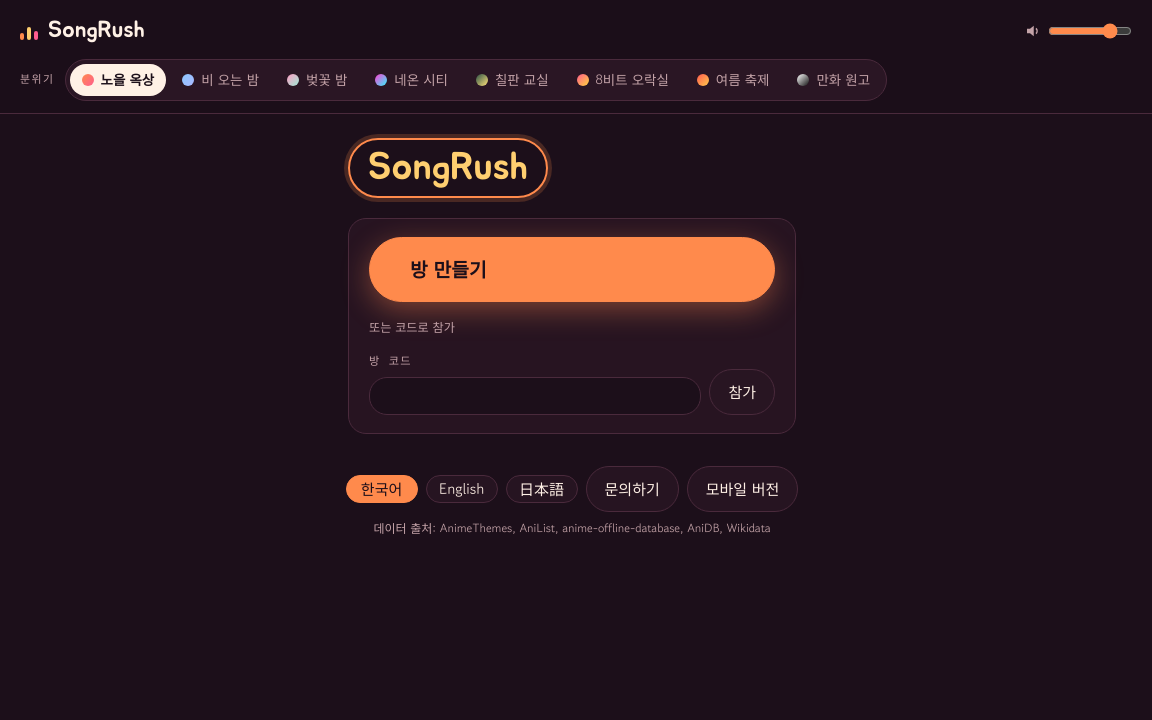
Test: the create dialog › Escape closes the dialog, sends nothing and gives focus back to 방 만들기
This screenshot has width=1152, height=720.
Click the button "방 만들기" at (448, 269), box [369, 237, 775, 302]
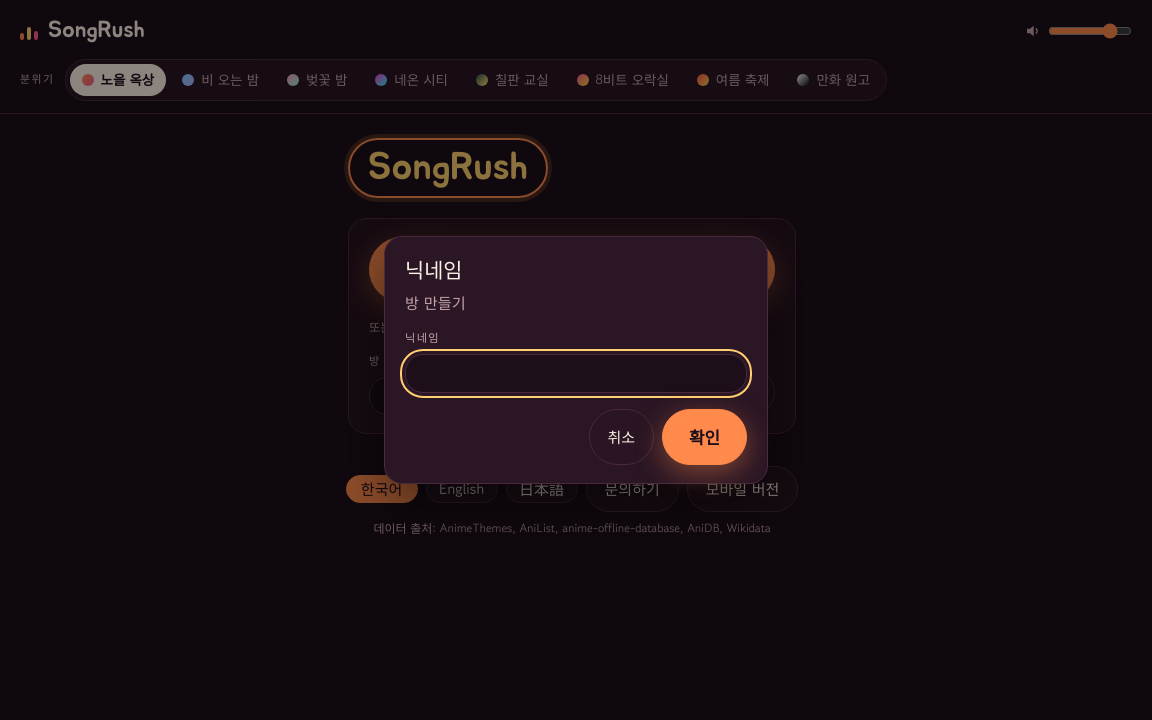
Type "하루" into the field at (576, 373), box [405, 354, 747, 392]
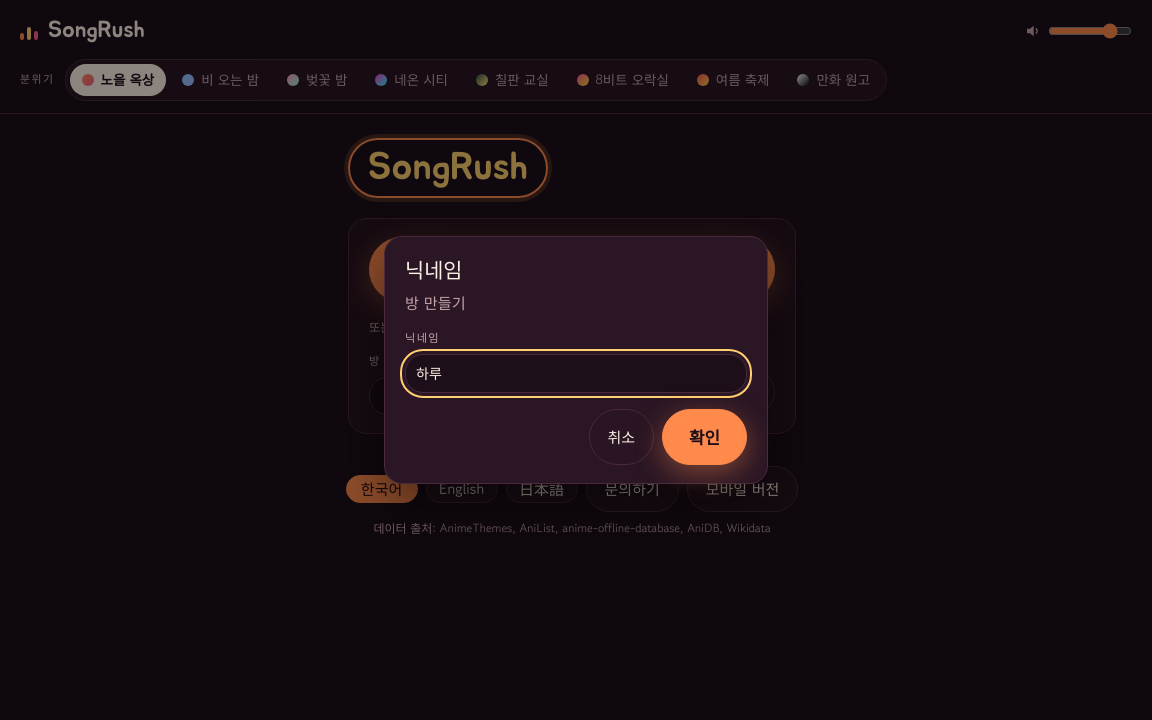
Press Escape in the field, box [405, 354, 747, 392]
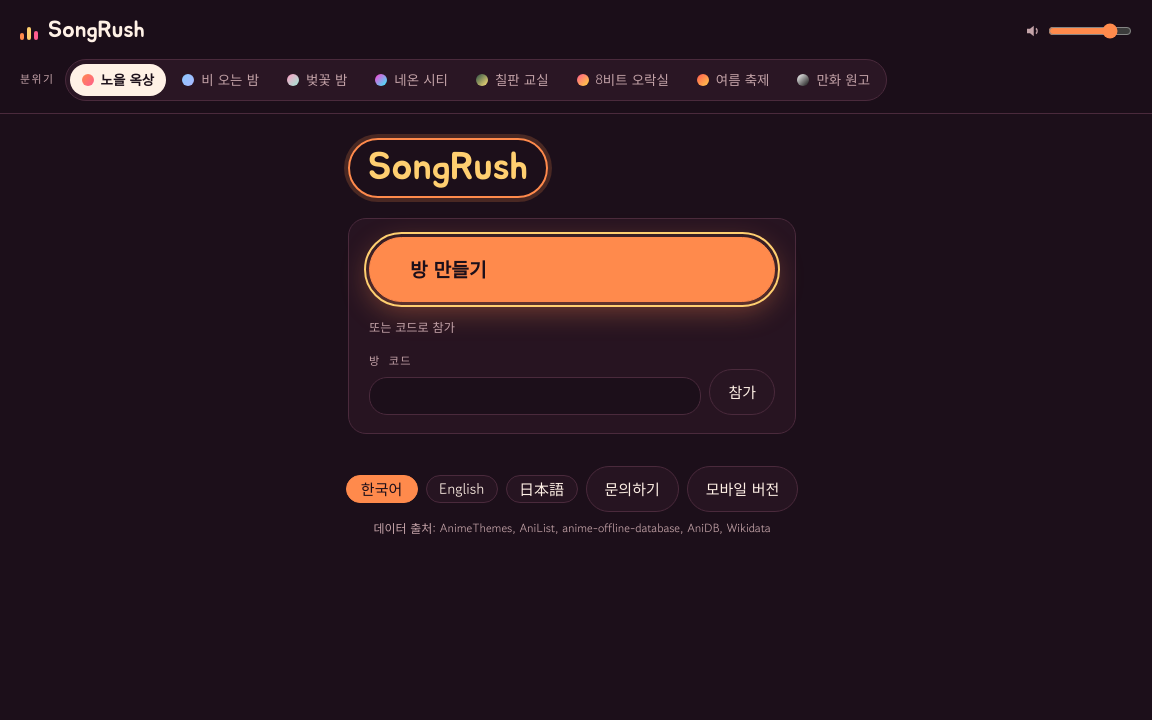
Expected: the dialog is gone
